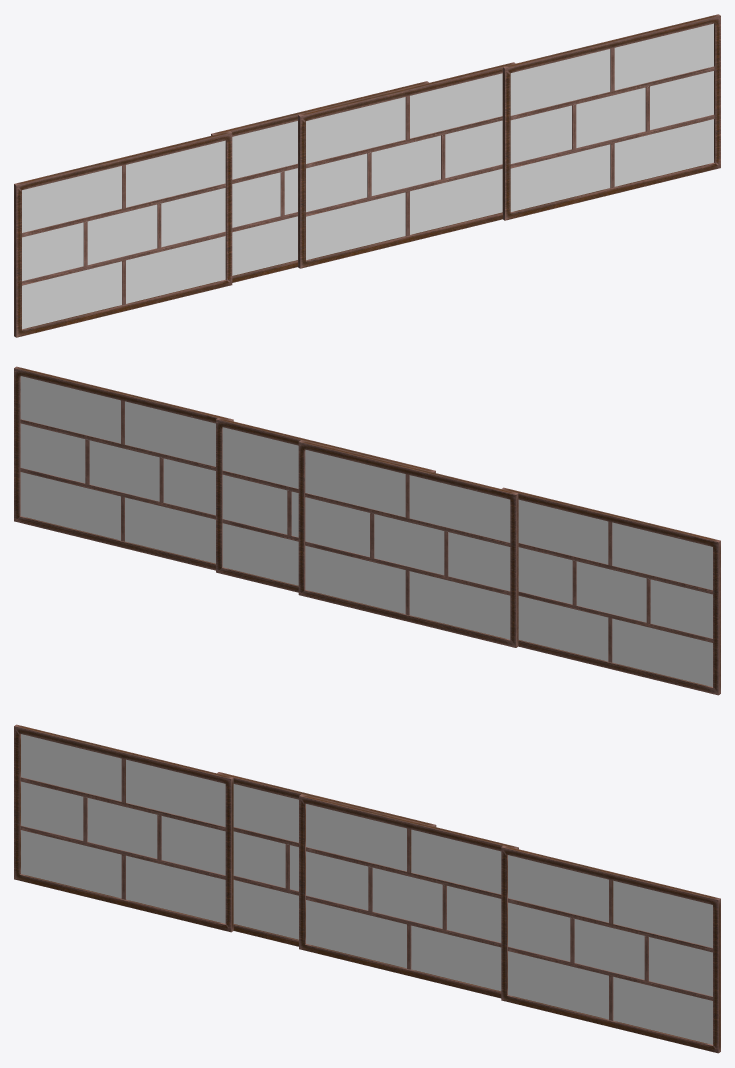
File: Shoji_Window.fbx
3 views of the same model, one above another, from view 1: azimuth 30°, elevation 25°; view 2: azimuth 150°, elevation 25°; view 3: azimuth 330°, elevation 25° (orthographic).
Visible parts, largest first — view 1: Shoji_Window3_LOD0, Shoji_Window1_LOD0, Shoji_Window_LOD0, Shoji_Window2_LOD0; view 2: Shoji_Window2_LOD0, Shoji_Window3_LOD0, Shoji_Window1_LOD0, Shoji_Window_LOD0; view 3: Shoji_Window1_LOD0, Shoji_Window3_LOD0, Shoji_Window_LOD0, Shoji_Window2_LOD0.
Part boxes in pixels (x1,y1,x2,y2): Shoji_Window3_LOD0: (14, 131, 232, 337); Shoji_Window1_LOD0: (502, 14, 720, 220); Shoji_Window_LOD0: (298, 62, 515, 268); Shoji_Window2_LOD0: (211, 81, 428, 282); Shoji_Window2_LOD0: (298, 440, 518, 647); Shoji_Window3_LOD0: (501, 487, 720, 695); Shoji_Window1_LOD0: (14, 366, 233, 570); Shoji_Window_LOD0: (216, 417, 435, 592); Shoji_Window1_LOD0: (501, 845, 720, 1053); Shoji_Window3_LOD0: (14, 724, 233, 932); Shoji_Window_LOD0: (299, 794, 518, 998); Shoji_Window2_LOD0: (217, 772, 436, 946).
Size of what is drawn, in the model's own units: 433 by 89.74 by 7.1.
